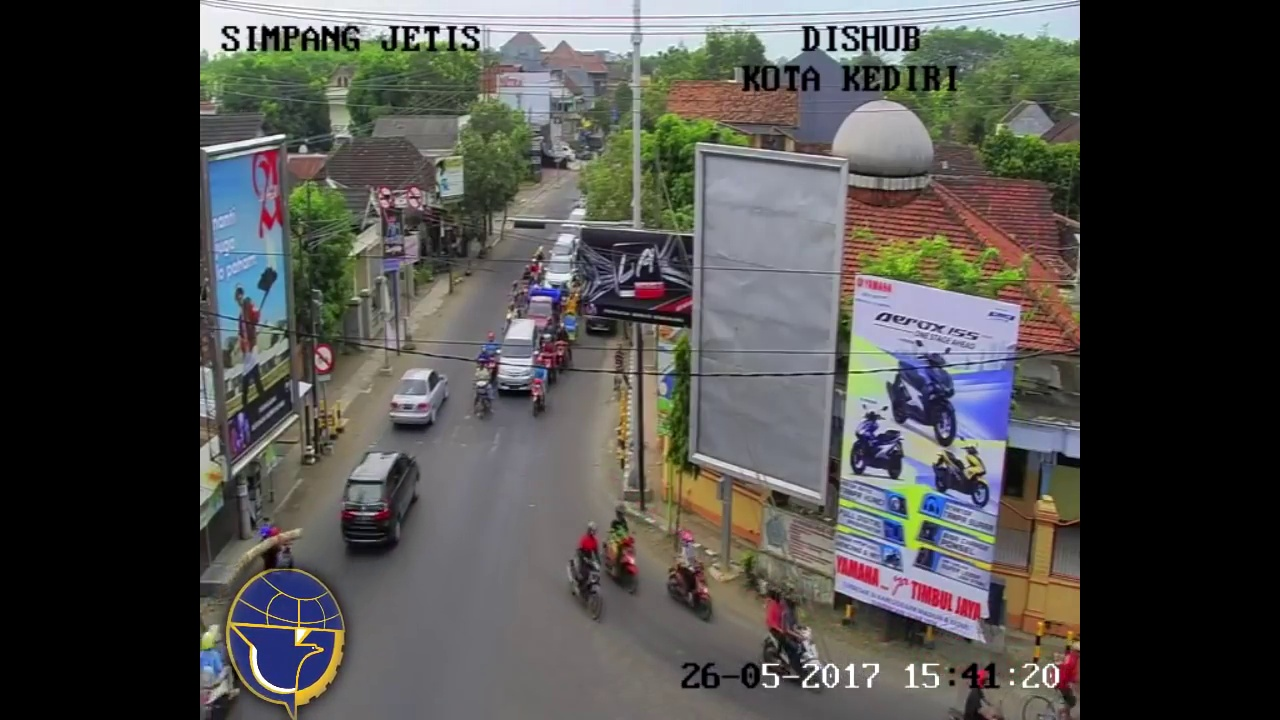car: (341, 452, 420, 552), (394, 368, 447, 434), (498, 318, 537, 393), (526, 293, 559, 345), (544, 253, 574, 296)
motorbike: (758, 585, 819, 689), (669, 531, 716, 621), (569, 525, 608, 623), (601, 504, 640, 592), (202, 625, 238, 720), (475, 358, 491, 421), (530, 357, 548, 413), (555, 325, 571, 376), (485, 335, 499, 381)
